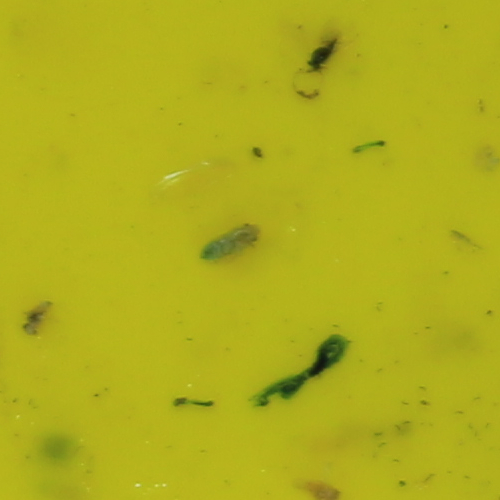psylla: (197, 221, 265, 262)
